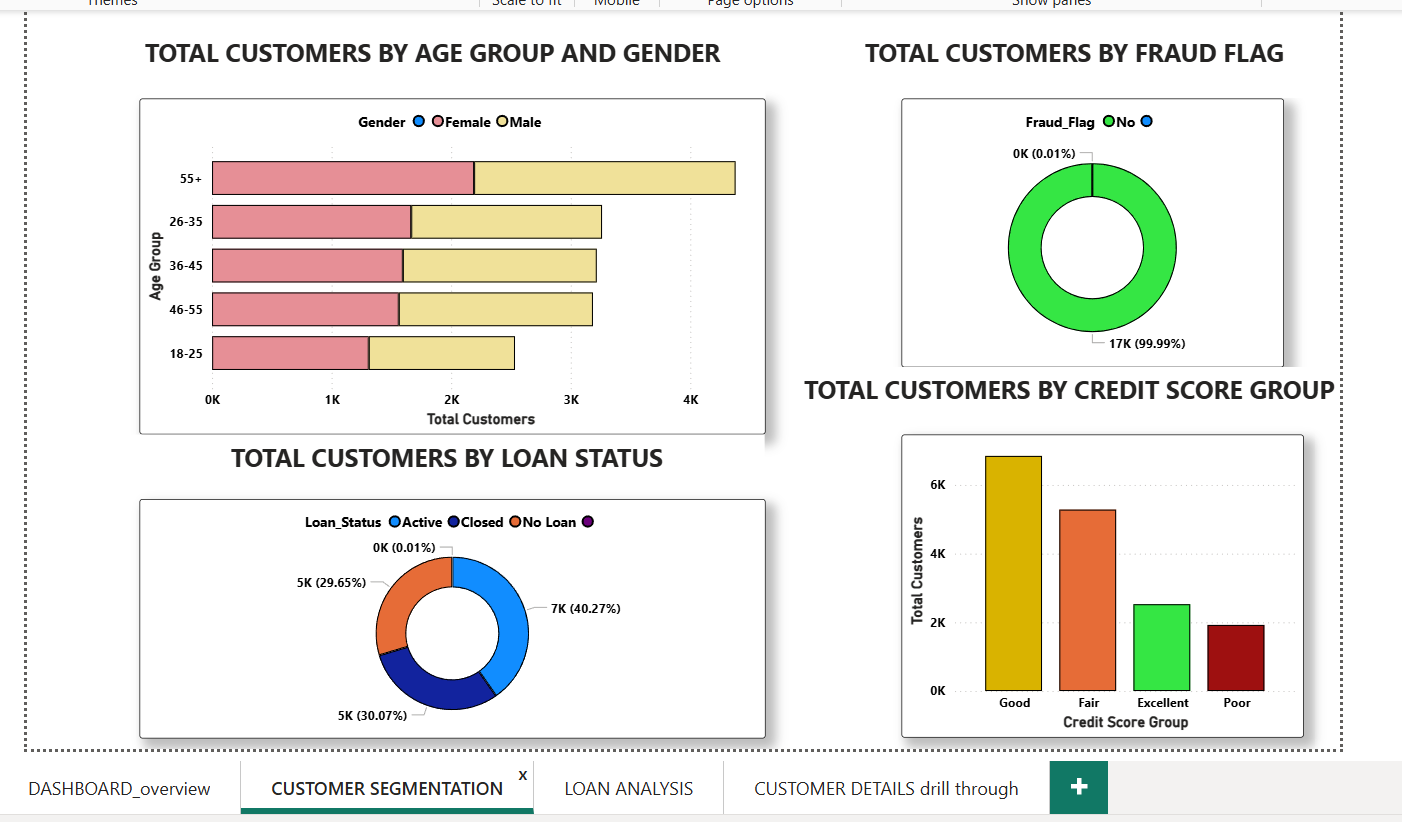

What the dashboard file says about the page in this screenshot:
{"tool":"powerbi","page":{"name":"CUSTOMER SEGMENTATION","canvas":[1280,720],"ordinal":1},"visuals":[{"type":"donutChart","fields":{"Category":["banking_customer_data_clean.Loan_Status"],"Y":["banking_customer_data_clean.Total Customers"]},"box":[109,477,610.2,233.2],"z":0},{"type":"donutChart","fields":{"Category":["banking_customer_data_clean.Fraud_Flag"],"Y":["banking_customer_data_clean.Total Customers"]},"box":[852.5,86.3,372.5,262],"z":1000},{"type":"barChart","fields":{"Category":["banking_customer_data_clean.Age Group"],"Y":["banking_customer_data_clean.Total Customers"],"Series":["banking_customer_data_clean.Gender"]},"box":[109,86.3,610.2,327.1],"z":2000},{"type":"clusteredColumnChart","fields":{"Category":["banking_customer_data_clean.Credit Score Group"],"Y":["banking_customer_data_clean.Total Customers"]},"box":[852.5,413.4,392.2,295.3],"z":3000},{"type":"textbox","box":[109,19.7,610.2,66.6],"z":4000},{"type":"textbox","box":[811.6,19.7,433.1,66.6],"z":5000},{"type":"textbox","box":[99.9,413.4,619.3,48.5],"z":6000},{"type":"textbox","box":[751,348.3,528.5,51.5],"z":7000}]}

Visuals, with their boxes on the page's 1280x720 design canvas (x1, y1, x2, y2). These are canvas units, not pixel positions in the 1402x822 screenshot, which may show the page scaled, cropped or inside an application window:
donutChart - banking_customer_data_clean.Loan_Status x banking_customer_data_clean.Total Customers: {"left": 109, "top": 477, "right": 719, "bottom": 710}
donutChart - banking_customer_data_clean.Fraud_Flag x banking_customer_data_clean.Total Customers: {"left": 852, "top": 86, "right": 1225, "bottom": 348}
barChart - banking_customer_data_clean.Age Group x banking_customer_data_clean.Total Customers: {"left": 109, "top": 86, "right": 719, "bottom": 413}
clusteredColumnChart - banking_customer_data_clean.Credit Score Group x banking_customer_data_clean.Total Customers: {"left": 852, "top": 413, "right": 1245, "bottom": 709}
textbox: {"left": 109, "top": 20, "right": 719, "bottom": 86}
textbox: {"left": 812, "top": 20, "right": 1245, "bottom": 86}
textbox: {"left": 100, "top": 413, "right": 719, "bottom": 462}
textbox: {"left": 751, "top": 348, "right": 1280, "bottom": 400}
